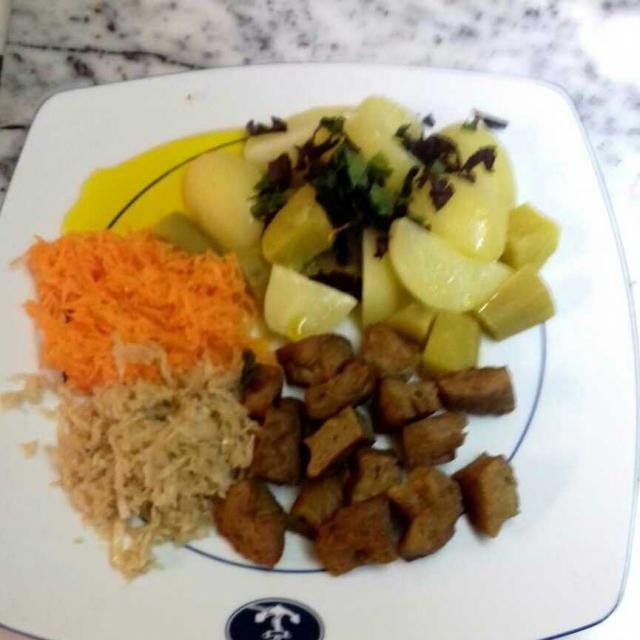carrot: (13, 217, 280, 395)
meat: (211, 328, 528, 575)
potatoes: (158, 97, 565, 363)
sauerkraut: (27, 371, 258, 605)
